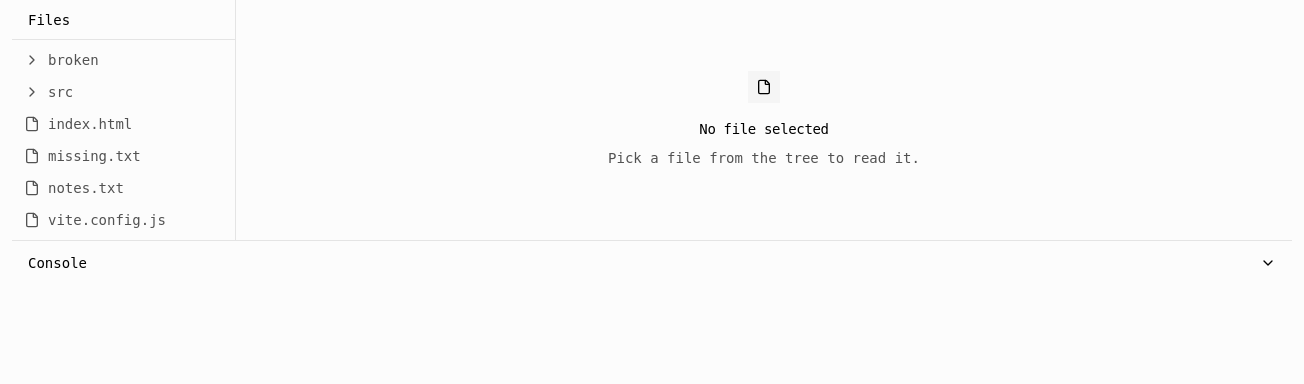
it: lists folders first, hides node_modules, and expands folders on demand
expect the heading "Files" is shown: met, box [12,0,235,40]
expect the text "No console output." is not shown: met
Click the button "Console".
click(58, 263)  # box [12,241,1292,285]
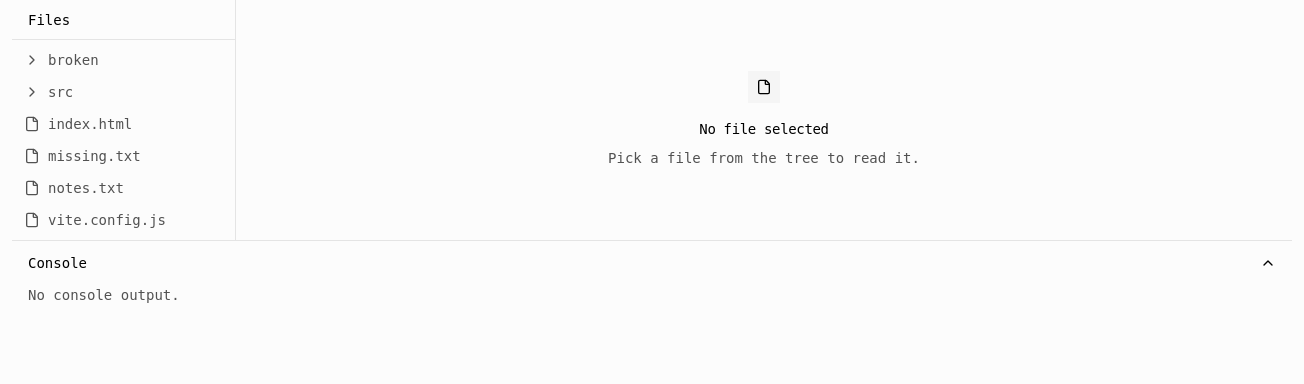
expect the text "No console output." is shown: met, box [28,287,180,303]
Click the button "src".
click(118, 92)  # box [12,76,225,108]
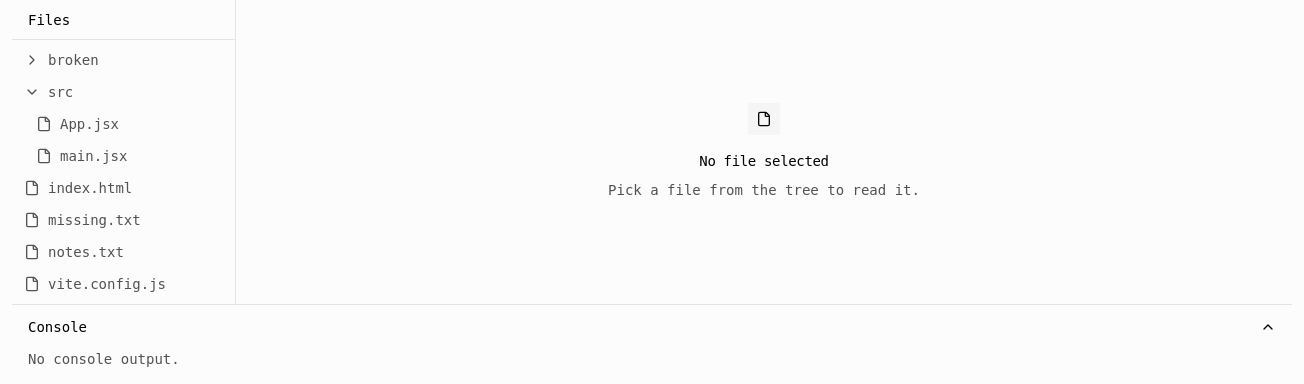
Click the button "src".
click(118, 92)  # box [12,76,225,108]
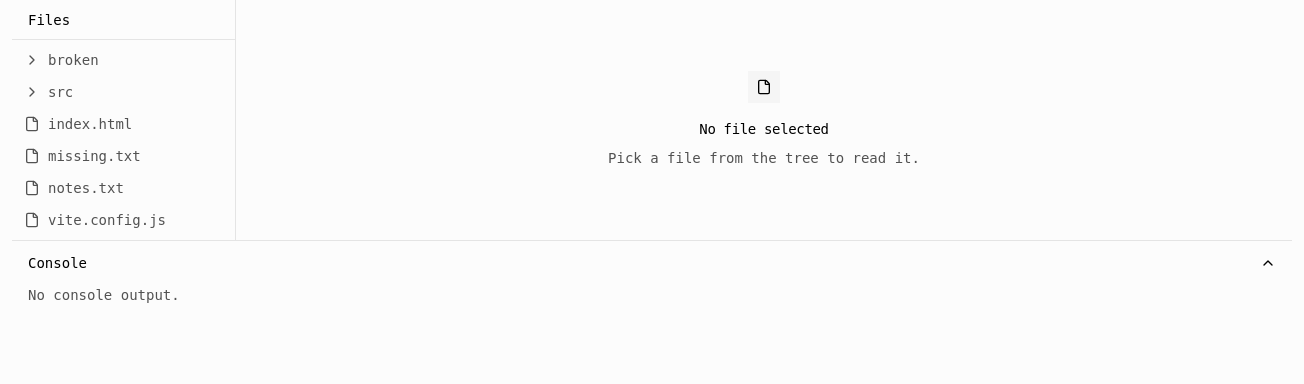
expect the button "main.jsx" no longer shows "main.jsx": met
